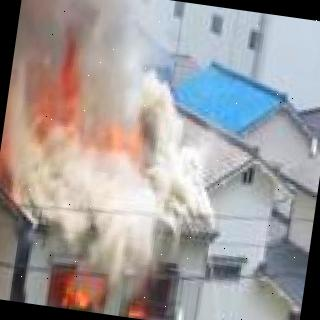fire: (38, 68, 146, 154), (55, 272, 102, 313), (0, 152, 8, 297)
